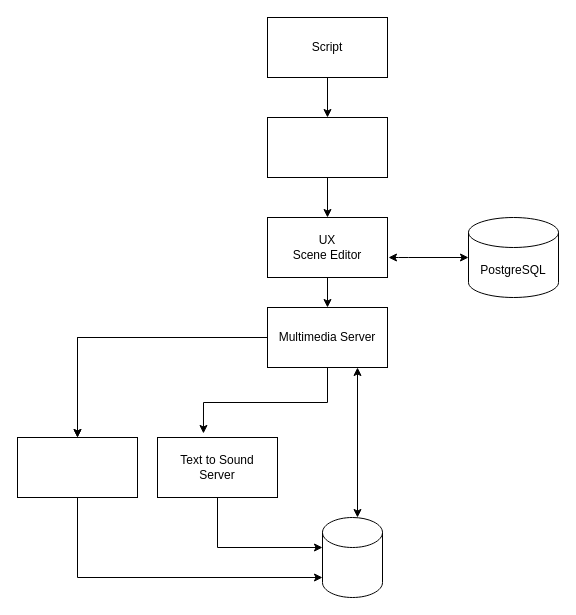
Some shapes in this 576 by 615 pixel diagram are drawn without their labels. The shapes that lost their labels are listed below. From the top down, each one's centre as x and y in pixels, then its label:
At (x=327, y=147): "Scene Parser LLM".
At (x=77, y=467): "Text to Speech Server".
At (x=352, y=557): "Neo4j/ MongoDB".
